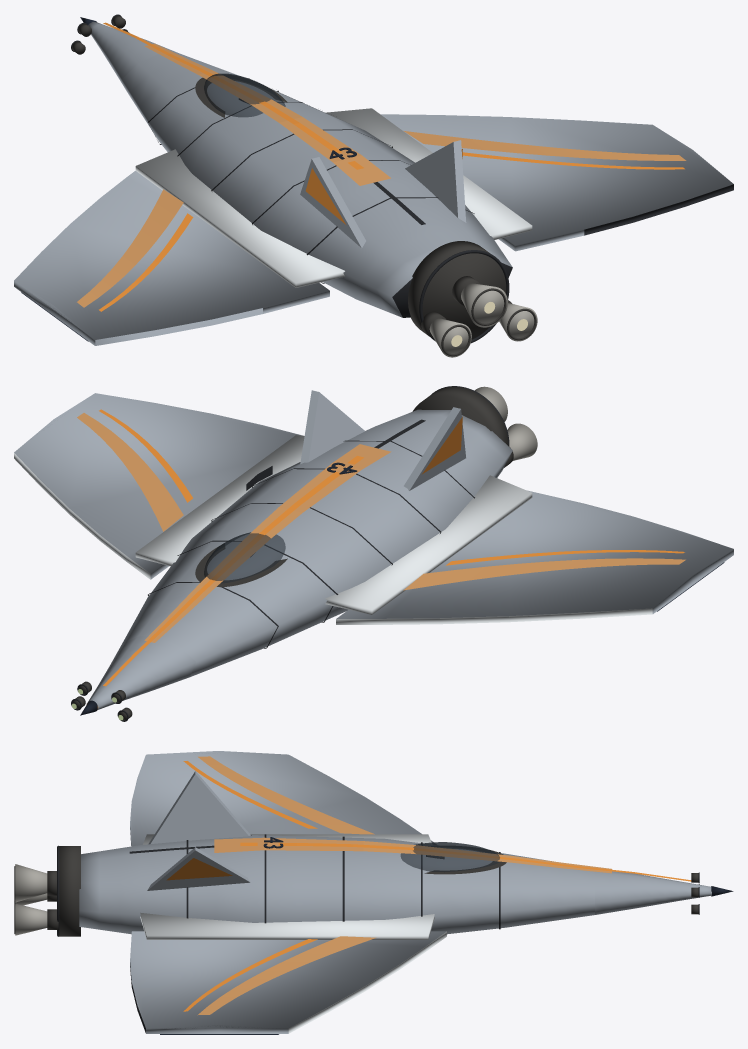
File: Ship_DeltaWing_691262.glb
3 renders of one model, top to bottom at view 1: azimuth 30°, elevation 25°; view 2: azimuth 150°, elevation 25°; view 3: azimuth 270°, elevation 25°, orthographic. The views are drawn at different scales.
Parts seen in each view (by area): view 1: Fuselage_MainWedgeBody, Wing_Left_DeltaAerofoil, Wing_Right_DeltaAerofoil, WingRoot_Left_BlendedShoulder, EngineBlock_AftIntegratedHousing, WingRoot_Right_BlendedShoulder, PaintStripe_DorsalPrimaryArrow, TailFin_Right_CantedStabilizer, PaintWingRacingStripe_Left_PrimaryLongSlash, PaintWingRacingStripe_Right_PrimaryLongSlash, CanopyGlass_LowInsetDome, Nose_ForwardNeedle (+10 smaller); view 2: Fuselage_MainWedgeBody, Wing_Left_DeltaAerofoil, Wing_Right_DeltaAerofoil, WingRoot_Left_BlendedShoulder, Nose_ForwardNeedle, WingRoot_Right_BlendedShoulder, PaintStripe_DorsalPrimaryArrow, CanopyGlass_LowInsetDome, PaintWingRacingStripe_Left_PrimaryLongSlash, PaintWingRacingStripe_Right_PrimaryLongSlash, TailFin_Right_CantedStabilizer, EngineBlock_AftIntegratedHousing (+7 smaller); view 3: Fuselage_MainWedgeBody, Wing_Right_DeltaAerofoil, Wing_Left_DeltaAerofoil, WingRoot_Right_BlendedShoulder, TailFin_Left_CantedStabilizer, Nose_ForwardNeedle, PaintStripe_DorsalPrimaryArrow, CanopyGlass_LowInsetDome, PaintWingRacingStripe_Right_PrimaryLongSlash, EngineBlock_AftIntegratedHousing, PaintWingRacingStripe_Left_PrimaryLongSlash, TailFin_Right_CantedStabilizer (+8 smaller).
Part boxes in pixels (x1,y1,x2,y2): Fuselage_MainWedgeBody: [122, 53, 512, 317]; Wing_Left_DeltaAerofoil: [14, 159, 329, 345]; Wing_Right_DeltaAerofoil: [381, 114, 733, 251]; WingRoot_Left_BlendedShoulder: [135, 149, 344, 287]; EngineBlock_AftIntegratedHousing: [408, 241, 506, 339]; WingRoot_Right_BlendedShoulder: [325, 108, 532, 239]; PaintStripe_DorsalPrimaryArrow: [144, 43, 390, 185]; TailFin_Right_CantedStabilizer: [405, 140, 466, 222]; PaintWingRacingStripe_Left_PrimaryLongSlash: [77, 189, 183, 307]; PaintWingRacingStripe_Right_PrimaryLongSlash: [404, 131, 686, 160]; CanopyGlass_LowInsetDome: [204, 73, 285, 117]; Nose_ForwardNeedle: [88, 21, 179, 92]; Fuselage_MainWedgeBody: [122, 409, 512, 676]; Wing_Left_DeltaAerofoil: [336, 490, 733, 624]; Wing_Right_DeltaAerofoil: [14, 393, 303, 579]; WingRoot_Left_BlendedShoulder: [325, 475, 532, 614]; Nose_ForwardNeedle: [86, 636, 195, 710]; WingRoot_Right_BlendedShoulder: [135, 435, 304, 566]; PaintStripe_DorsalPrimaryArrow: [144, 444, 391, 642]; CanopyGlass_LowInsetDome: [204, 532, 285, 583]; PaintWingRacingStripe_Left_PrimaryLongSlash: [403, 558, 685, 590]; PaintWingRacingStripe_Right_PrimaryLongSlash: [77, 413, 183, 531]; TailFin_Right_CantedStabilizer: [300, 390, 364, 464]; EngineBlock_AftIntegratedHousing: [412, 386, 508, 445]; Fuselage_MainWedgeBody: [79, 835, 594, 934]; Wing_Right_DeltaAerofoil: [130, 931, 446, 1033]; Wing_Left_DeltaAerofoil: [130, 751, 435, 846]; WingRoot_Right_BlendedShoulder: [140, 912, 434, 939]; TailFin_Left_CantedStabilizer: [148, 771, 250, 844]; Nose_ForwardNeedle: [595, 871, 711, 914]; PaintStripe_DorsalPrimaryArrow: [214, 837, 611, 873]; CanopyGlass_LowInsetDome: [400, 842, 499, 872]; PaintWingRacingStripe_Right_PrimaryLongSlash: [197, 936, 376, 1015]; EngineBlock_AftIntegratedHousing: [59, 846, 80, 936]; PaintWingRacingStripe_Left_PrimaryLongSlash: [198, 756, 374, 834]; TailFin_Right_CantedStabilizer: [147, 847, 250, 890].
Bounding box in the file's own units: 6.57 × 1.45 × 7.3.
